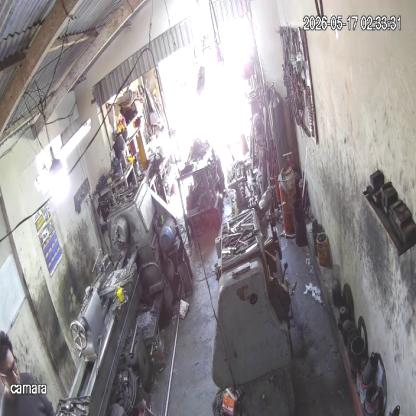lentes: (1, 354, 20, 379)
